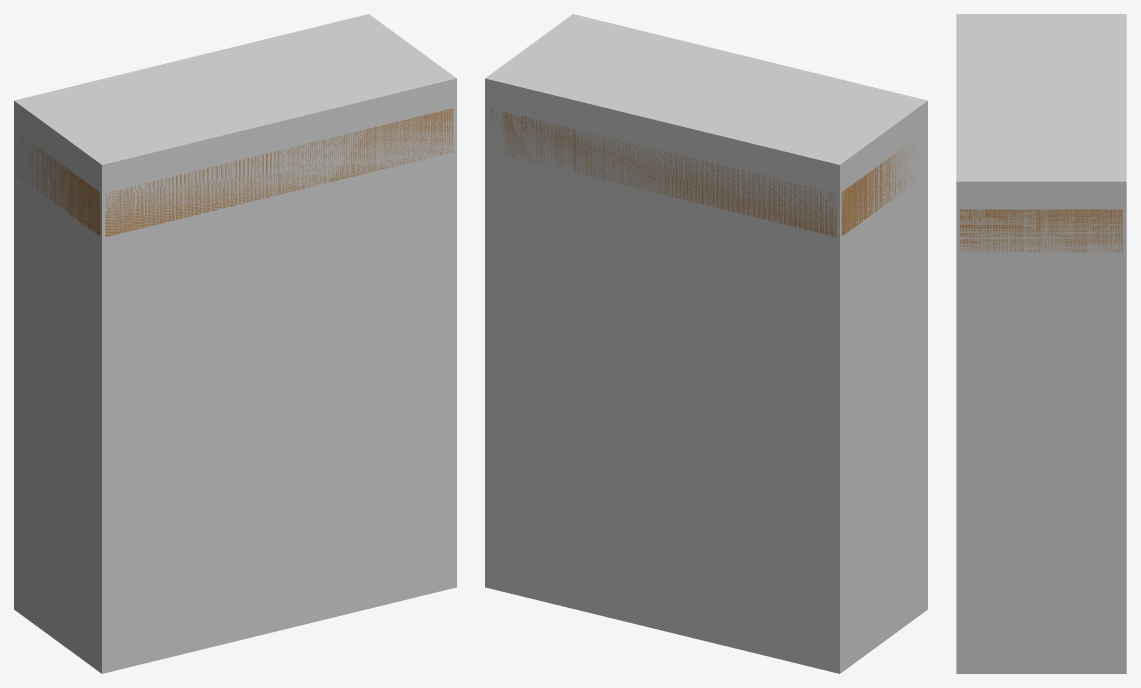
File: feature-gondola_commercial.glb
3 renders of one model, left to right at view 1: azimuth 30°, elevation 25°; view 2: azimuth 150°, elevation 25°; view 3: azimuth 270°, elevation 25°, orthographic. The views are drawn at different scales.
Parts seen in each view (by area): view 1: COL_feature-gondola, MESH_DisplayTop; view 2: COL_feature-gondola, MESH_DisplayTop; view 3: COL_feature-gondola, MESH_DisplayTop.
Boxes of the visible parts, x1=… form: COL_feature-gondola: x1=14, y1=14, x2=456, y2=673; MESH_DisplayTop: x1=16, y1=108, x2=453, y2=236; COL_feature-gondola: x1=485, y1=14, x2=927, y2=673; MESH_DisplayTop: x1=490, y1=109, x2=916, y2=236; COL_feature-gondola: x1=956, y1=14, x2=1126, y2=673; MESH_DisplayTop: x1=960, y1=209, x2=1122, y2=252.
Size of the model in its own units: 1.35 by 1.85 by 0.58.
